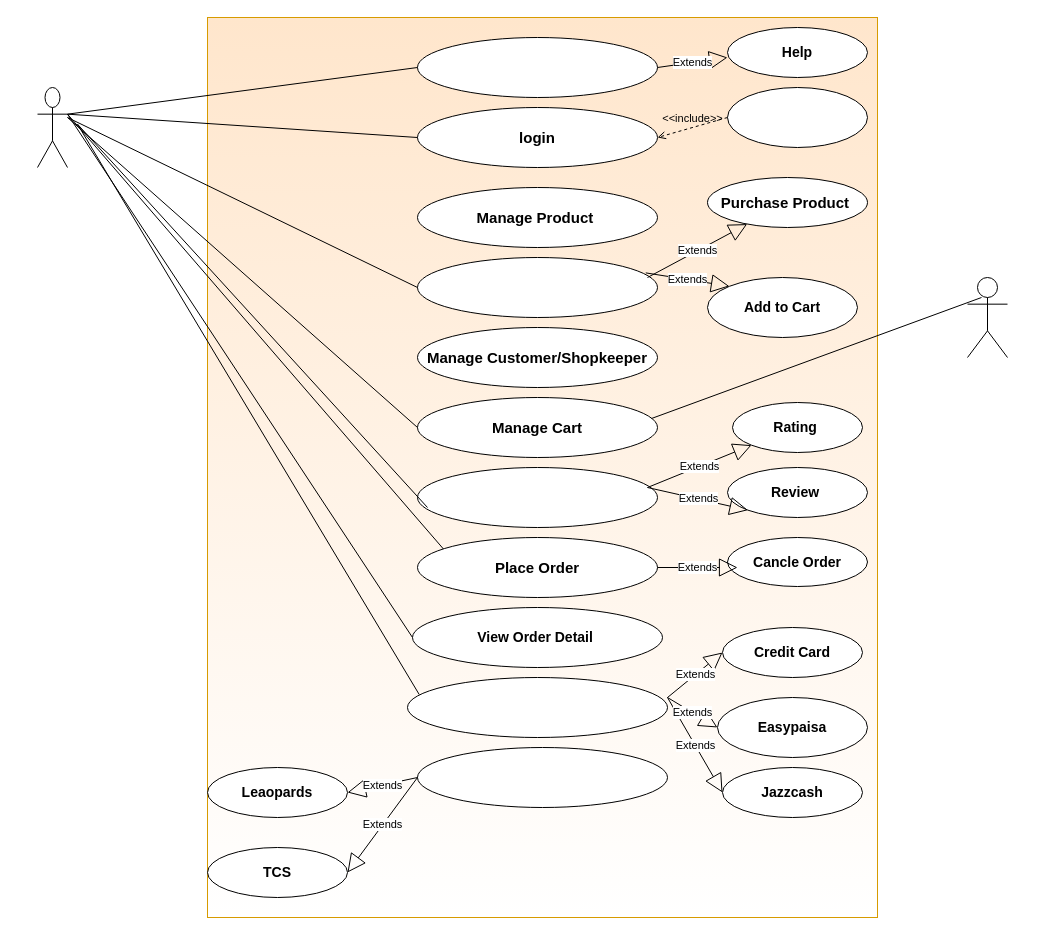
The diagram is 1053 pixels wide and 935 high, and some of its shapes have lost their labels. Each missing label, with the box of its shape:
Administrator: (966, 276, 1008, 358)
Customer: (36, 86, 68, 168)
Deliver Order: (416, 746, 668, 808)
Give Feedback: (416, 466, 658, 528)
Make Payment: (406, 676, 668, 738)
Registration: (416, 36, 658, 98)
Username/Password: (726, 86, 868, 148)
View Products details: (416, 256, 658, 318)
